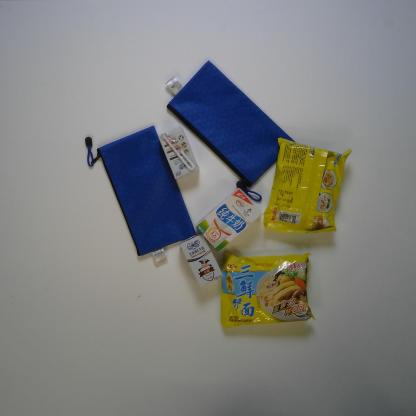Instant Noodles: (262, 136, 353, 238), (219, 249, 316, 330)
Milk: (193, 186, 264, 255), (178, 231, 225, 290), (158, 128, 199, 180)
Stationery: (164, 60, 295, 204), (82, 125, 196, 269)
